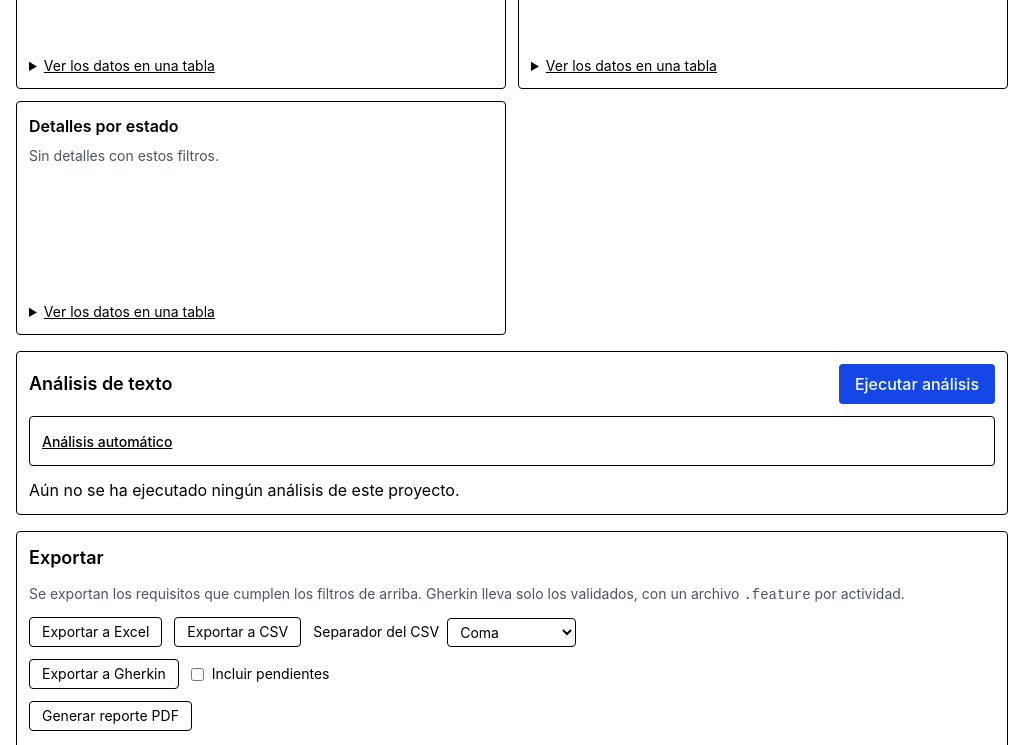
lanzar el análisis › un análisis fallido muestra su mensaje y deja volver a intentarlo
The width and height of the screenshot is (1024, 745).
(page scrolled)
Click the button "Ejecutar análisis" at (917, 384), box x1=839 y1=364 x2=995 y2=404
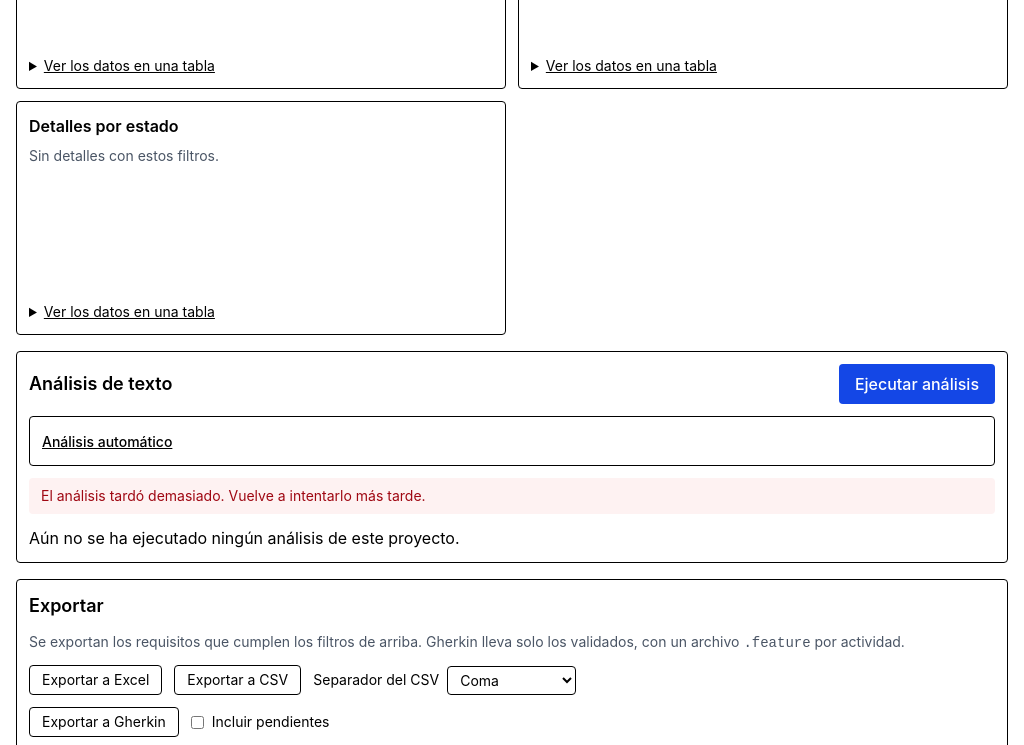
Now the message shows "El análisis tardó demasiado.", box x1=41 y1=487 x2=426 y2=504
